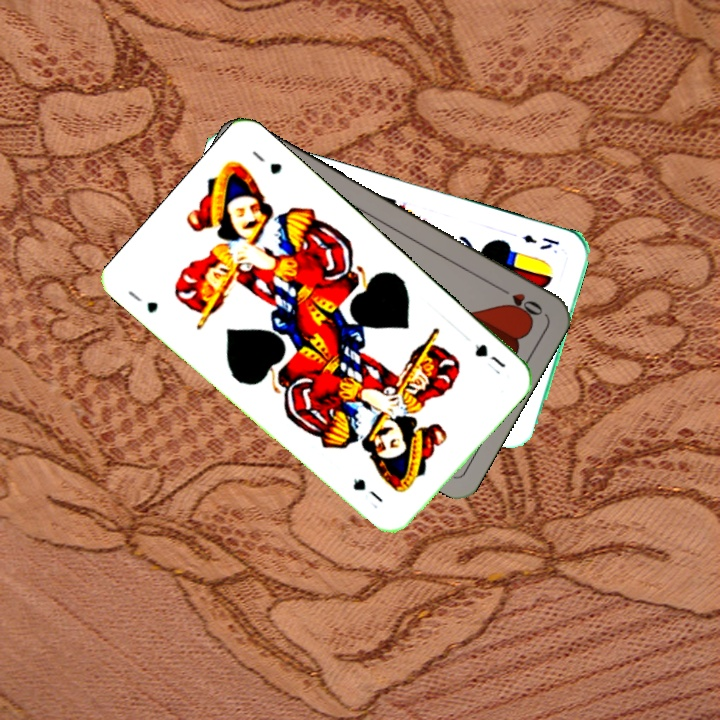EK: (518, 230, 562, 252)
GU: (470, 339, 509, 370), (123, 286, 161, 316)
HO: (493, 282, 546, 320)
